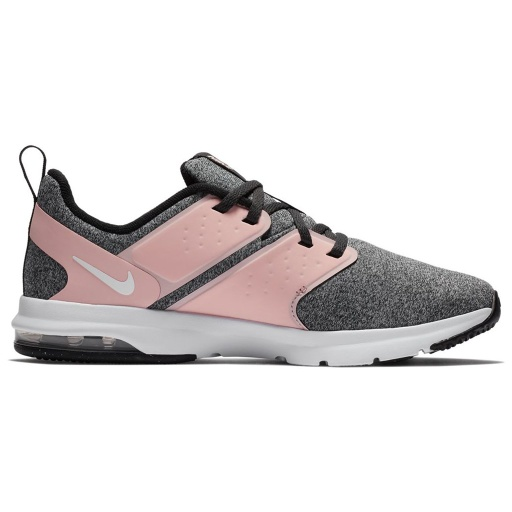nike: (65, 251, 140, 298)
